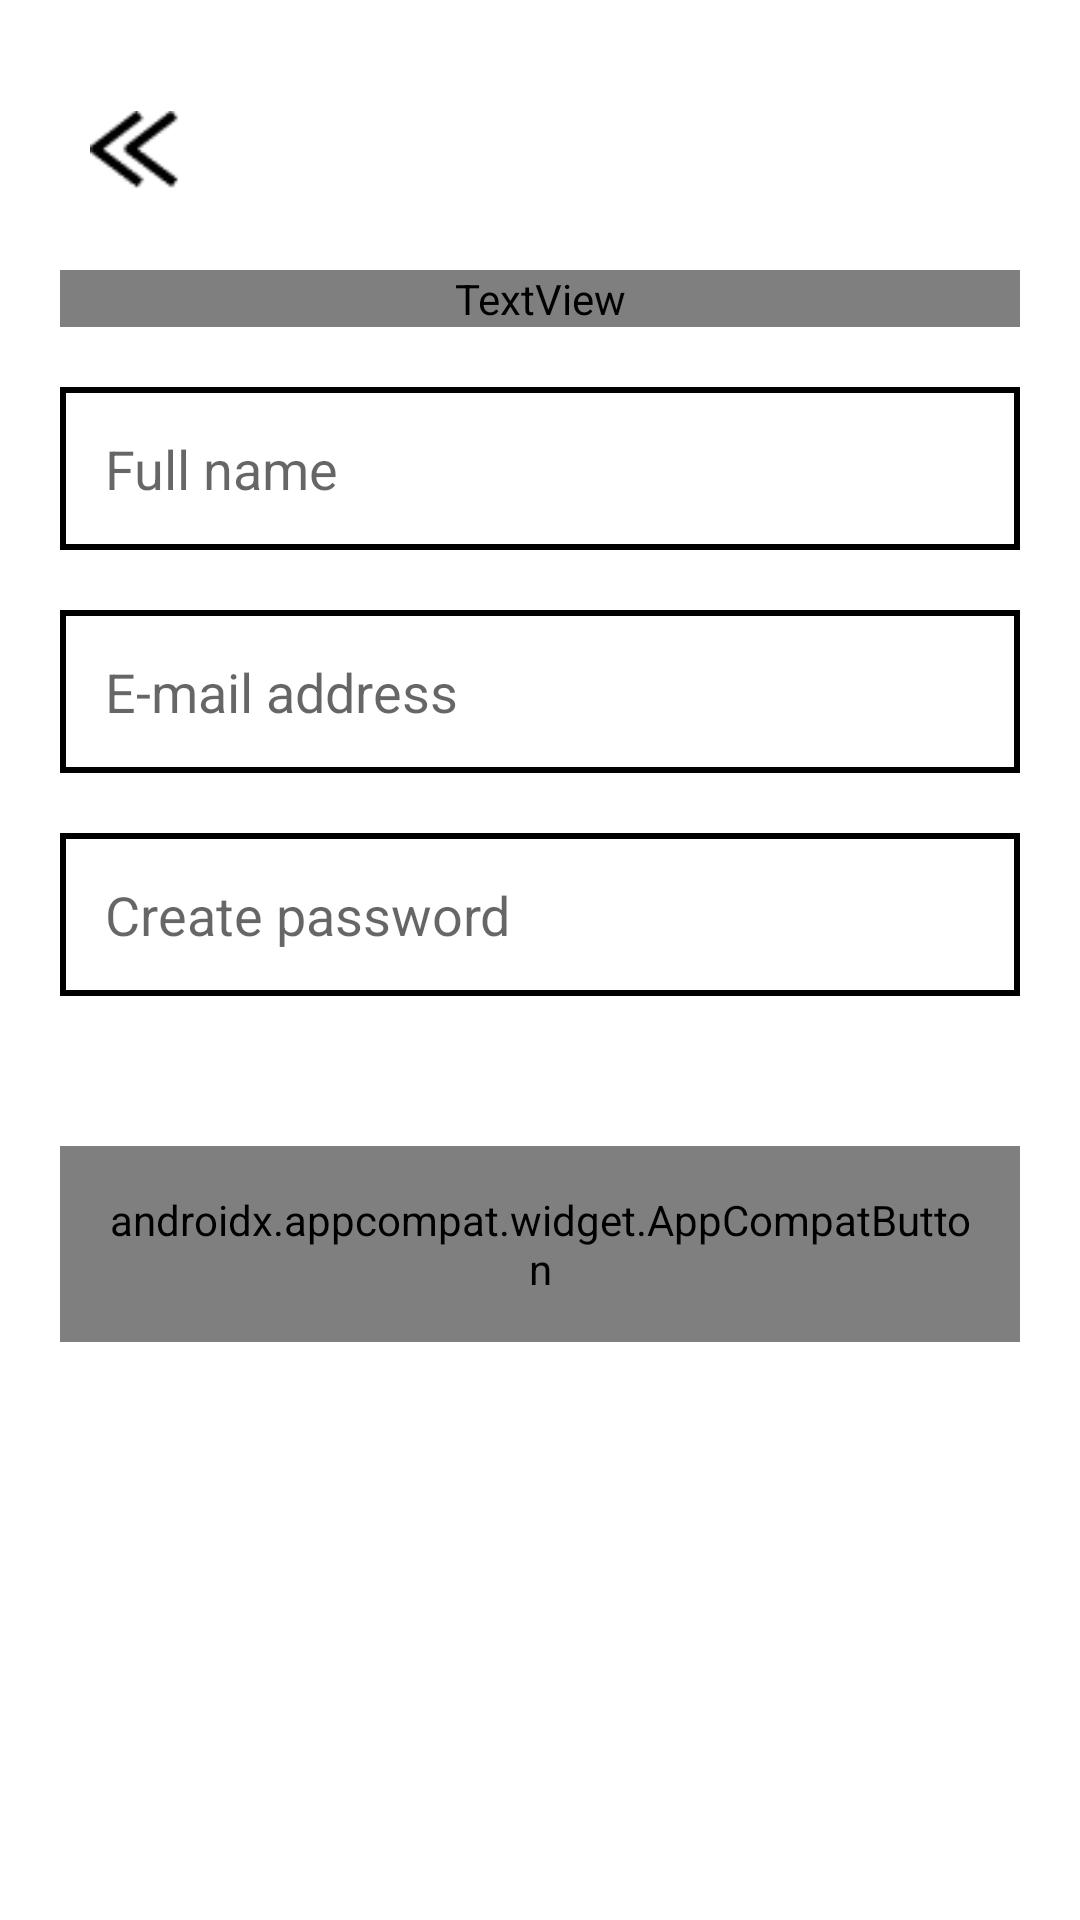

Named icons in this screenshot (1080px×1920px) and their centers, (x=x, y=y):
arrow back: (x=134, y=149)
